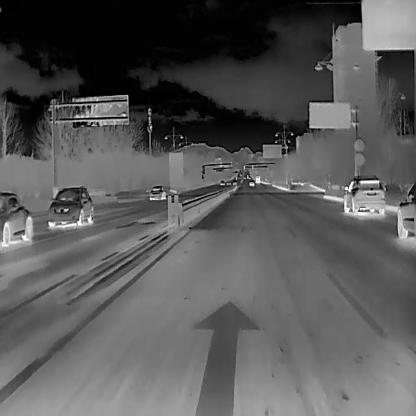bus: (254, 175, 260, 183)
car: (46, 184, 95, 225), (341, 174, 386, 217), (0, 190, 34, 245), (396, 180, 416, 238), (148, 183, 164, 199), (248, 180, 254, 186), (232, 179, 236, 185), (219, 180, 224, 184), (226, 180, 230, 184)
